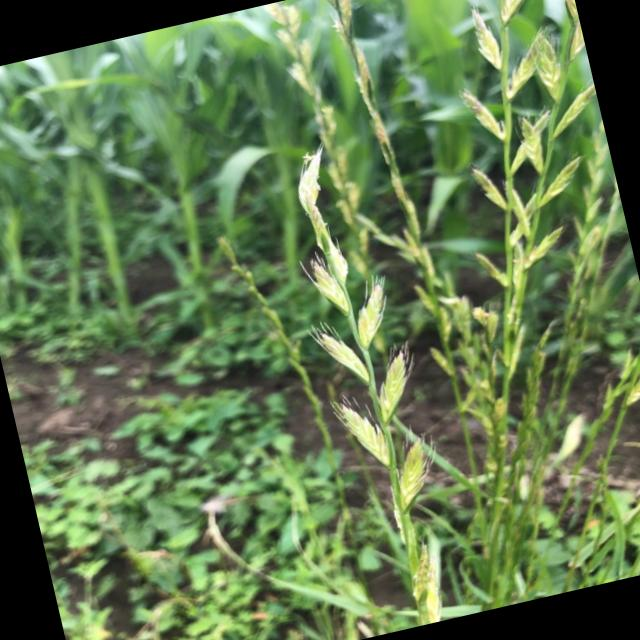Lolium: (393, 0, 640, 445), (268, 0, 505, 459), (264, 130, 478, 633)
